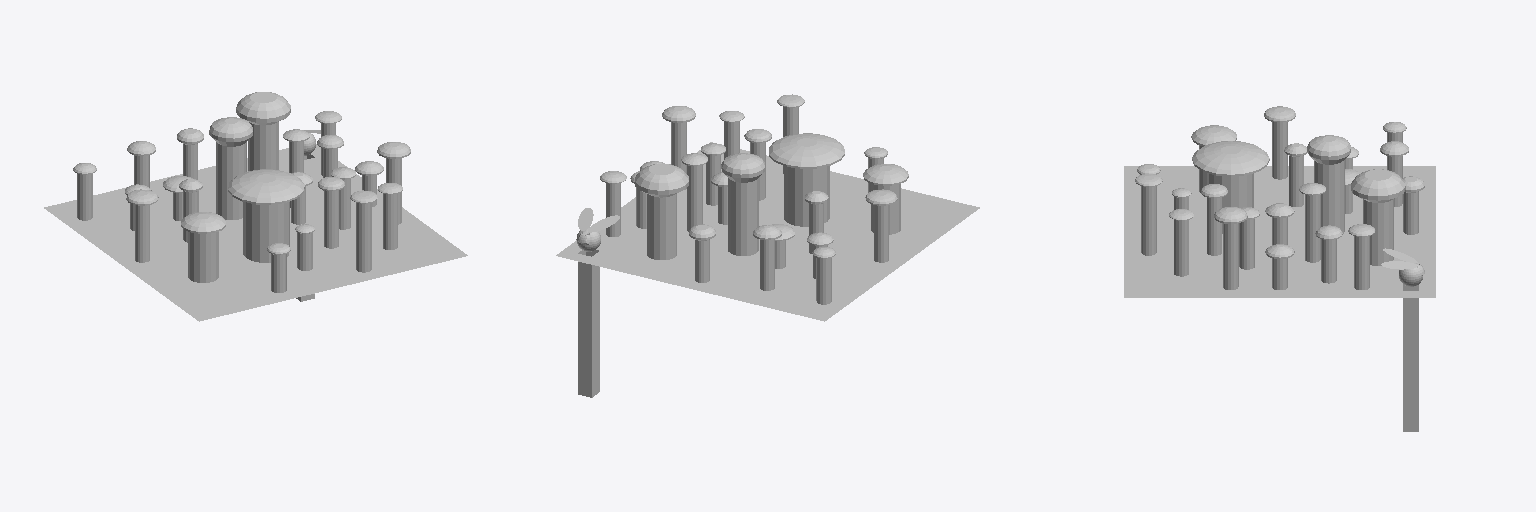
Rendered from frogFloor.obj.
The picture shows the model from 3 angles: view 1: azimuth 30°, elevation 25°; view 2: azimuth 150°, elevation 25°; view 3: azimuth 270°, elevation 25°; orthographic projection.
Visible parts, largest first — view 1: Grid; view 2: Grid; view 3: Grid.
Part boxes in pixels (x1,y1,x2,y2): Grid: (44,92,467,321); Grid: (556,94,979,397); Grid: (1124,106,1435,431).
Size of the model in its own units: 2 by 1.66 by 2.